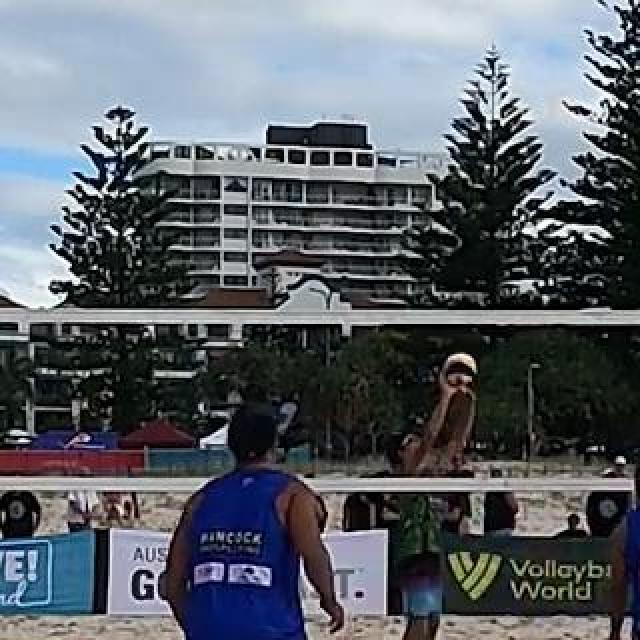volleyball: (444, 352, 476, 386)
